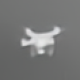plane: (18, 24, 69, 58)
